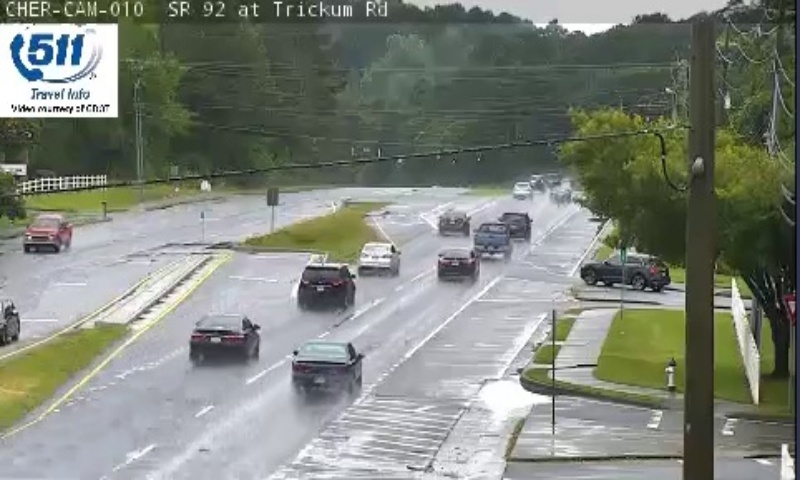car: (292, 342, 360, 393), (190, 315, 260, 360), (298, 265, 353, 306), (436, 249, 476, 279), (360, 243, 398, 272), (474, 223, 507, 256), (501, 211, 529, 238), (438, 211, 468, 232)
